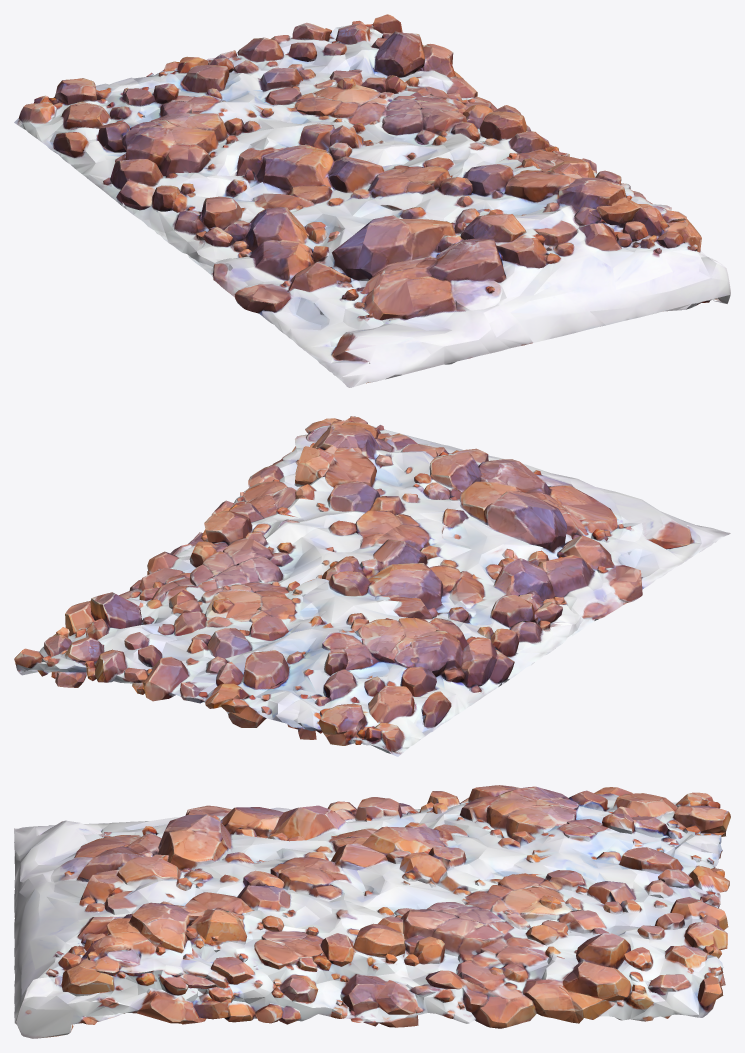
The model's file is suelonevado1.glb.
3 renders of one model, top to bottom at view 1: azimuth 30°, elevation 25°; view 2: azimuth 150°, elevation 25°; view 3: azimuth 270°, elevation 25°, orthographic. The views are drawn at different scales.
Parts seen in each view (by area): view 1: SueloNevado1; view 2: SueloNevado1; view 3: SueloNevado1.
Part boxes in pixels (x1,y1,x2,y2): SueloNevado1: [14, 14, 730, 387]; SueloNevado1: [14, 416, 730, 756]; SueloNevado1: [14, 785, 730, 1038].
Bounding box in the file's own units: 0.7101 × 0.1562 × 1.06.
1 material, 1 textured.
